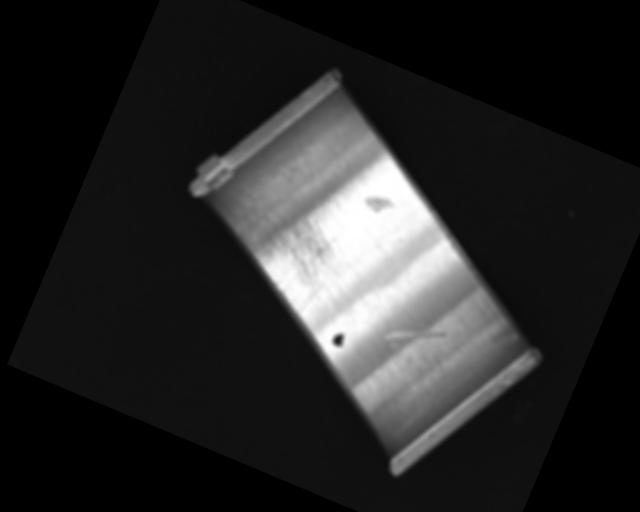blot: (330, 330, 347, 349)
bruise: (360, 190, 396, 218)
nick: (354, 310, 399, 382), (383, 311, 446, 359)
scratch: (221, 194, 360, 326)
